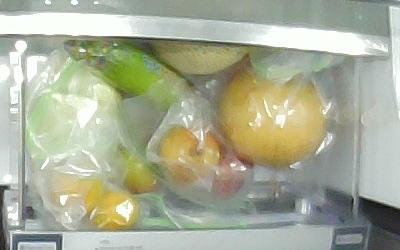melon: (149, 41, 249, 76)
pear_vinyl: (221, 62, 327, 166)
prune_vinyl: (159, 126, 224, 187), (212, 149, 247, 198)
tangerine_vinyl: (90, 189, 139, 232), (52, 174, 102, 212)
tomato_vinyl: (119, 142, 159, 195)
zucchini_vinyl: (63, 38, 208, 109)
